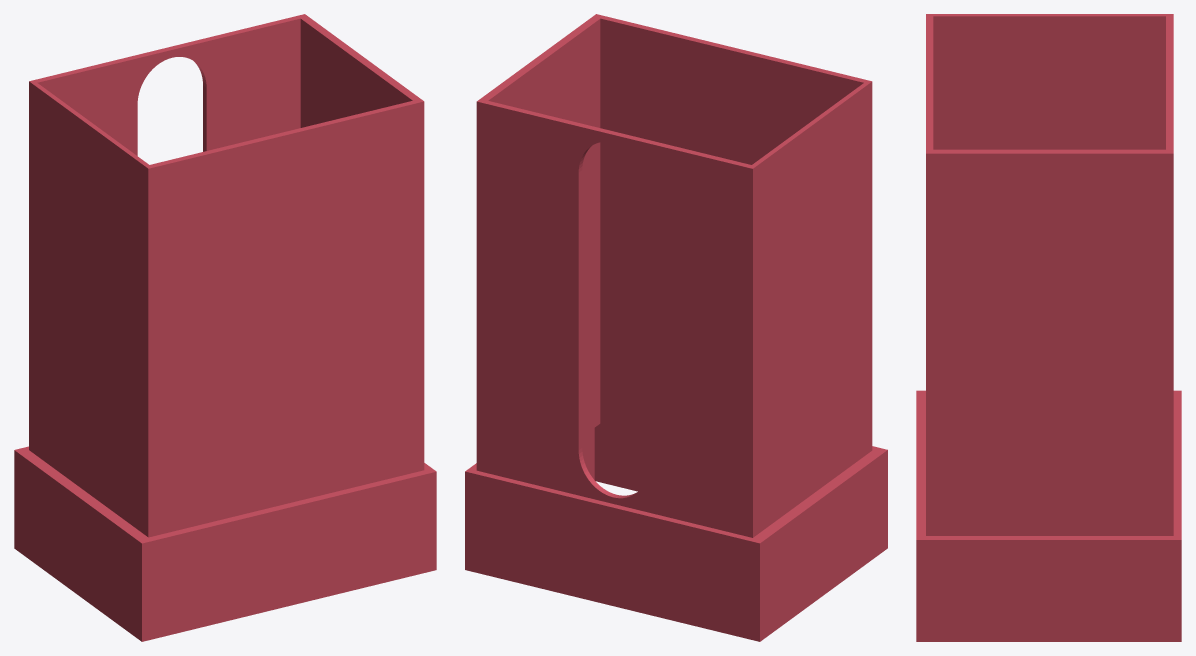
The model's file is tower.glb.
3 renders of one model, left to right at view 1: azimuth 30°, elevation 25°; view 2: azimuth 150°, elevation 25°; view 3: azimuth 270°, elevation 25°, orthographic. The views are drawn at different scales.
Parts seen in each view (by area): view 1: Mesh_Mesh_head_geo.001_lambert2SG.001; view 2: Mesh_Mesh_head_geo.001_lambert2SG.001; view 3: Mesh_Mesh_head_geo.001_lambert2SG.001.
Boxes of the visible parts, x1,y1,x2,y2 form: Mesh_Mesh_head_geo.001_lambert2SG.001: (14, 14, 436, 641); Mesh_Mesh_head_geo.001_lambert2SG.001: (465, 14, 887, 641); Mesh_Mesh_head_geo.001_lambert2SG.001: (916, 14, 1181, 641).
Size of the model in its own units: 0.047 by 0.0712 by 0.0353.
